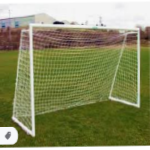goals: (12, 23, 142, 139)
